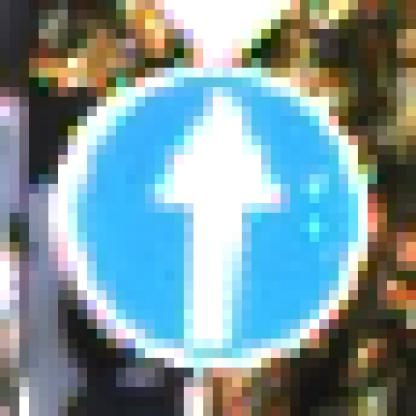AheadOnly: (49, 49, 359, 359)
